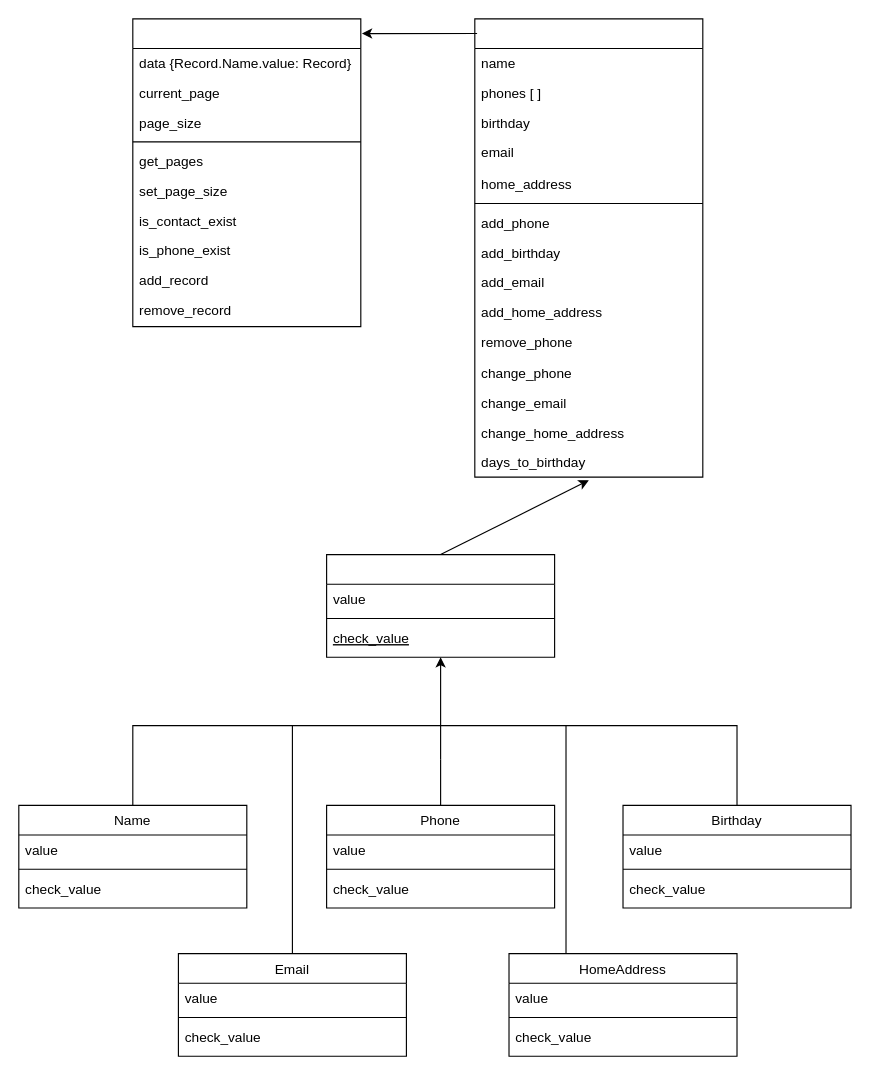
Image size: 870x1075. Some labels were removed from this diagram. The shapes that lost their labels are listed below. From the top down, each one's box as (x1, y1, x2, y2) in pixels, then its label:
(132, 18, 361, 327): AddressBook
(474, 18, 703, 477): Record
(325, 553, 555, 657): Field
